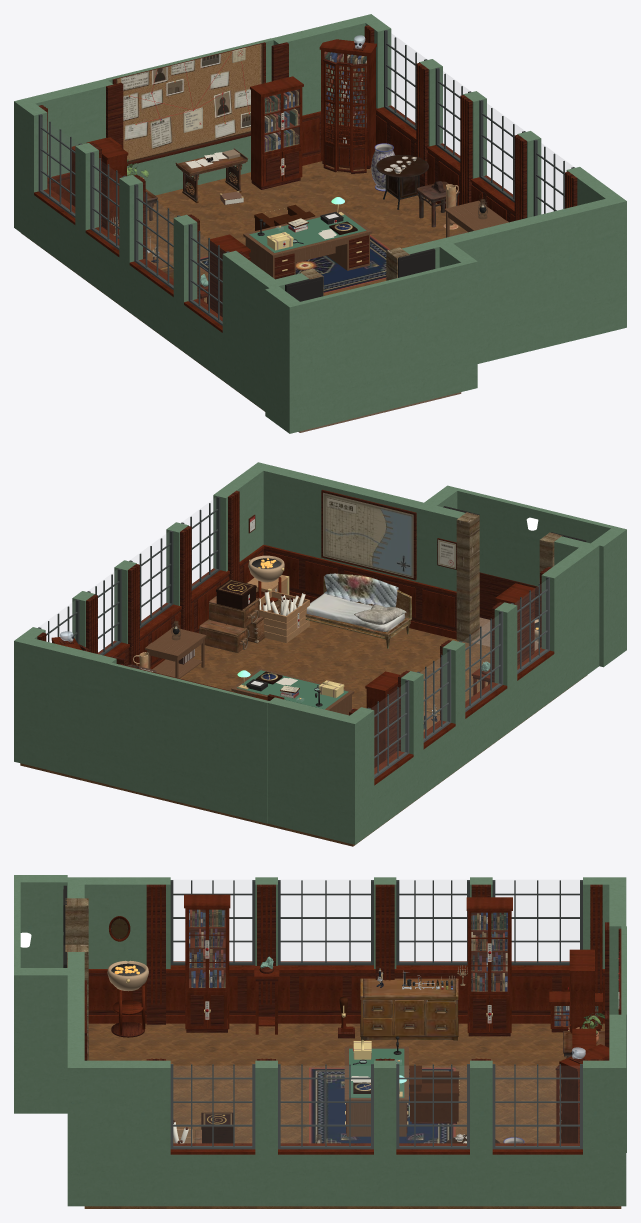
Rendered from detective.glb.
The picture shows the model from 3 angles, top to bottom: view 1: azimuth 30°, elevation 25°; view 2: azimuth 150°, elevation 25°; view 3: azimuth 270°, elevation 25°; orthographic projection. The views are drawn at different scales.
Bounding box in the file's own units: 8.08 × 2.8 × 10.85.
83 materials, 57 textured.
